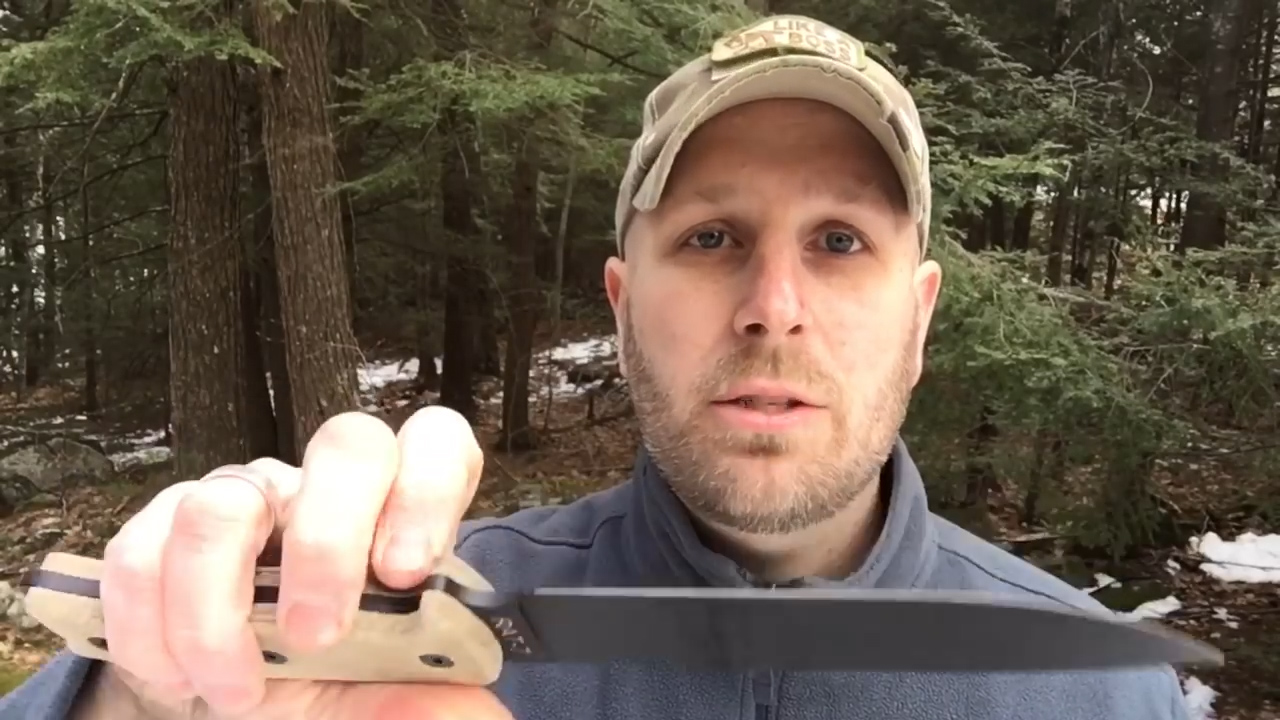knife: (158, 398, 1243, 697)
